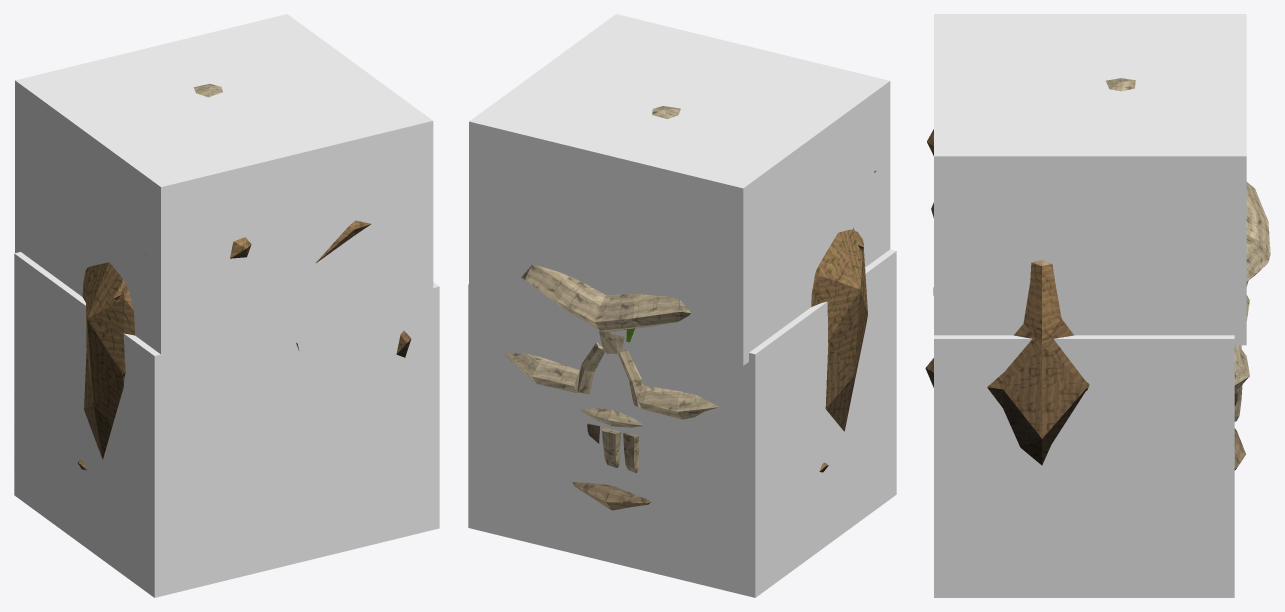
File: skull_cliff_carving.glb
3 renders of one model, left to right at view 1: azimuth 30°, elevation 25°; view 2: azimuth 150°, elevation 25°; view 3: azimuth 270°, elevation 25°, orthographic. The views are drawn at different scales.
Visible parts, largest first — view 1: col_skull_brow, col_skull_base, SkullCliffCarving; view 2: col_skull_brow, col_skull_base, SkullCliffCarving; view 3: col_skull_brow, col_skull_base, SkullCliffCarving.
Boxes of the visible parts, x1=… form: col_skull_brow: x1=15, y1=14, x2=433, y2=357; col_skull_base: x1=14, y1=252, x2=439, y2=597; SkullCliffCarving: x1=78, y1=83, x2=411, y2=470; col_skull_brow: x1=469, y1=14, x2=890, y2=365; col_skull_base: x1=468, y1=249, x2=896, y2=597; SkullCliffCarving: x1=504, y1=106, x2=876, y2=510; col_skull_brow: x1=934, y1=14, x2=1246, y2=345; col_skull_base: x1=934, y1=335, x2=1234, y2=597; SkullCliffCarving: x1=925, y1=78, x2=1270, y2=470.
Bounding box in the file's own units: 14.49 × 18.23 × 12.92.
7 materials, 5 textured.
